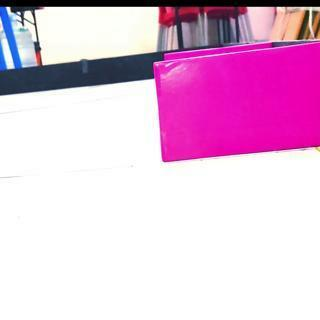xparking: (160, 62, 320, 150)
